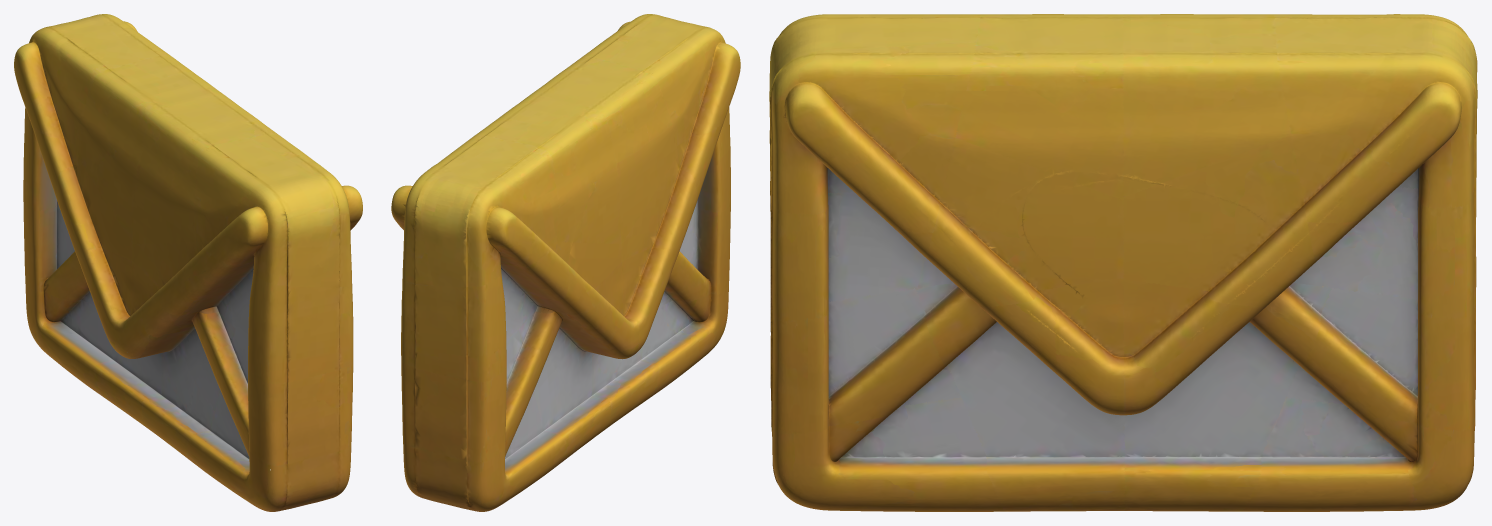
File: mail-optimized.glb
3 renders of one model, left to right at view 1: azimuth 30°, elevation 25°; view 2: azimuth 150°, elevation 25°; view 3: azimuth 270°, elevation 25°, orthographic. The views are drawn at different scales.
Parts seen in each view (by area): view 1: tripo_node_227f24c5-f63f-4e45-99eb-a3524f798f83; view 2: tripo_node_227f24c5-f63f-4e45-99eb-a3524f798f83; view 3: tripo_node_227f24c5-f63f-4e45-99eb-a3524f798f83.
Part boxes in pixels (left/top/right/bottom): tripo_node_227f24c5-f63f-4e45-99eb-a3524f798f83: left=14, top=14, right=362, bottom=511; tripo_node_227f24c5-f63f-4e45-99eb-a3524f798f83: left=391, top=14, right=740, bottom=511; tripo_node_227f24c5-f63f-4e45-99eb-a3524f798f83: left=769, top=14, right=1477, bottom=511.
Bounding box in the file's own units: 0.3301 × 0.6929 × 0.98.
1 material, 1 textured.
